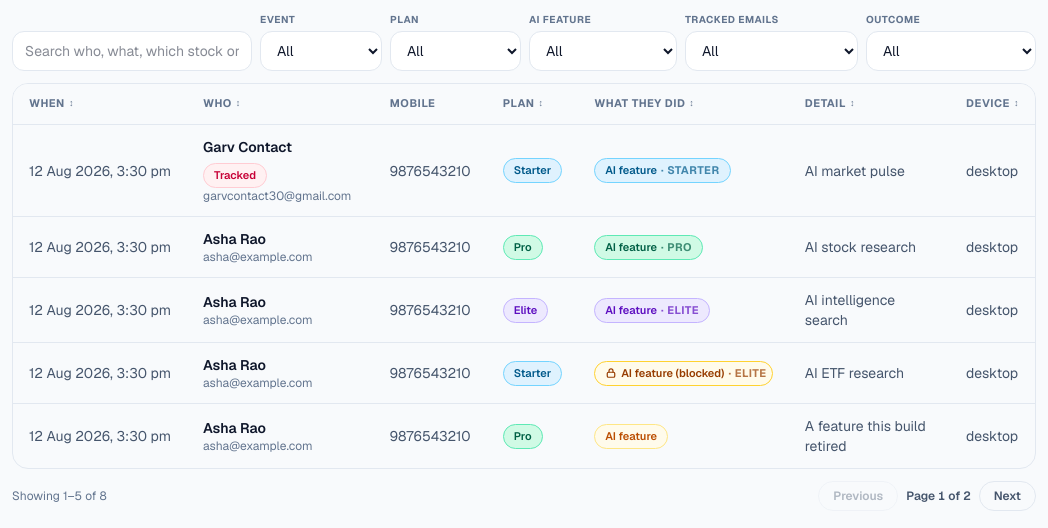
it: the activity feed's pills › badges the account's own plan, and says when there is no account
Click the button "Next" at (1007, 496), box [979, 481, 1036, 511]
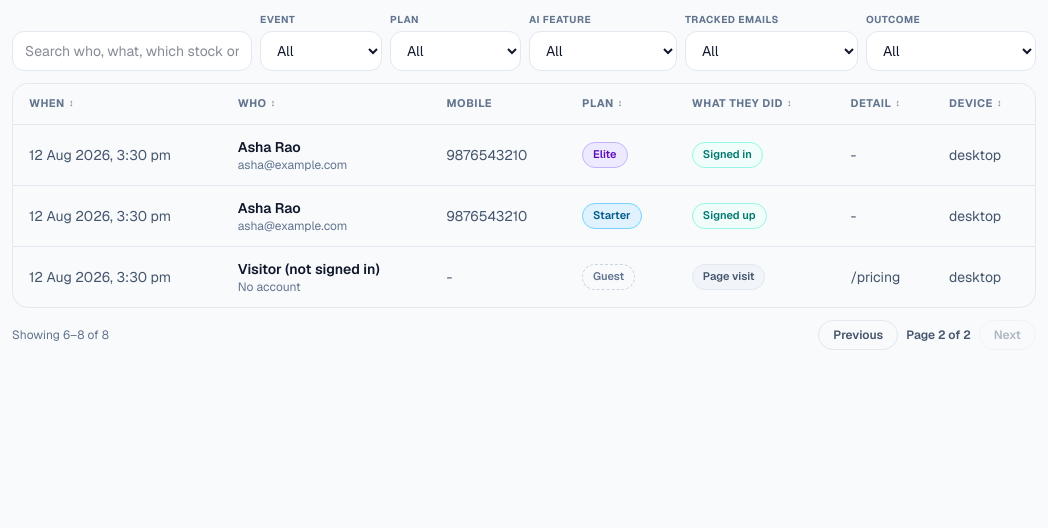
Result: the text "Guest" is shown at [582, 264, 635, 290]
